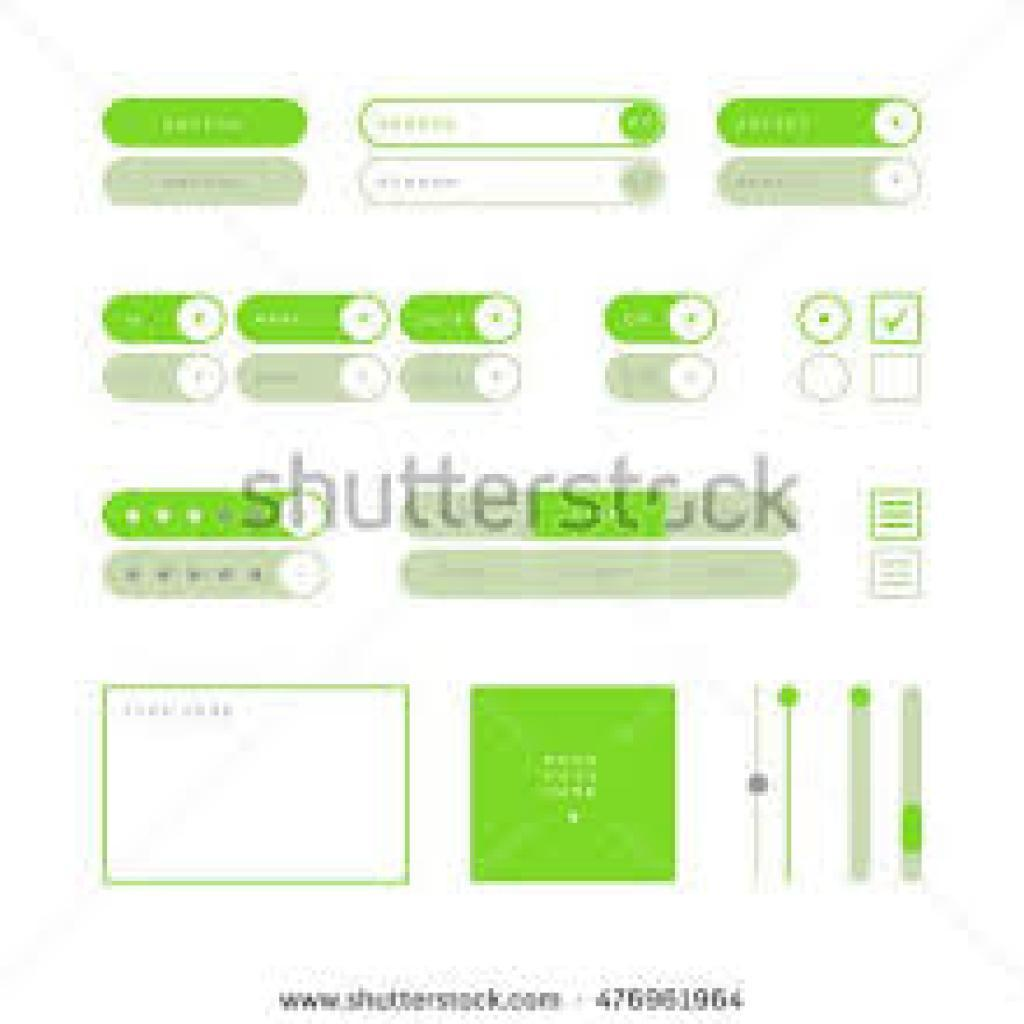button: (105, 97, 307, 150), (102, 155, 306, 207)
checkbox: (871, 295, 921, 346), (872, 356, 921, 404)
input: (357, 95, 666, 150), (355, 160, 670, 209)
radio: (795, 294, 853, 346), (798, 355, 854, 403)
slider: (844, 676, 880, 886), (895, 677, 931, 885), (776, 681, 810, 890), (746, 673, 773, 888)
switch: (721, 98, 922, 150), (717, 160, 922, 207), (237, 294, 393, 348), (240, 357, 391, 402), (102, 352, 229, 405), (602, 291, 720, 347), (401, 293, 523, 347), (102, 296, 229, 346), (400, 354, 520, 401), (604, 355, 717, 403)
